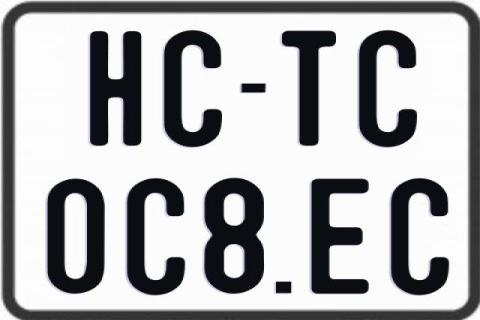0: (204, 177, 266, 297), (45, 178, 107, 294)
C: (358, 30, 422, 150), (161, 30, 223, 152), (128, 178, 188, 300), (392, 178, 452, 300)
E: (309, 177, 369, 291)
H: (87, 31, 144, 148)
T: (281, 31, 339, 149)
